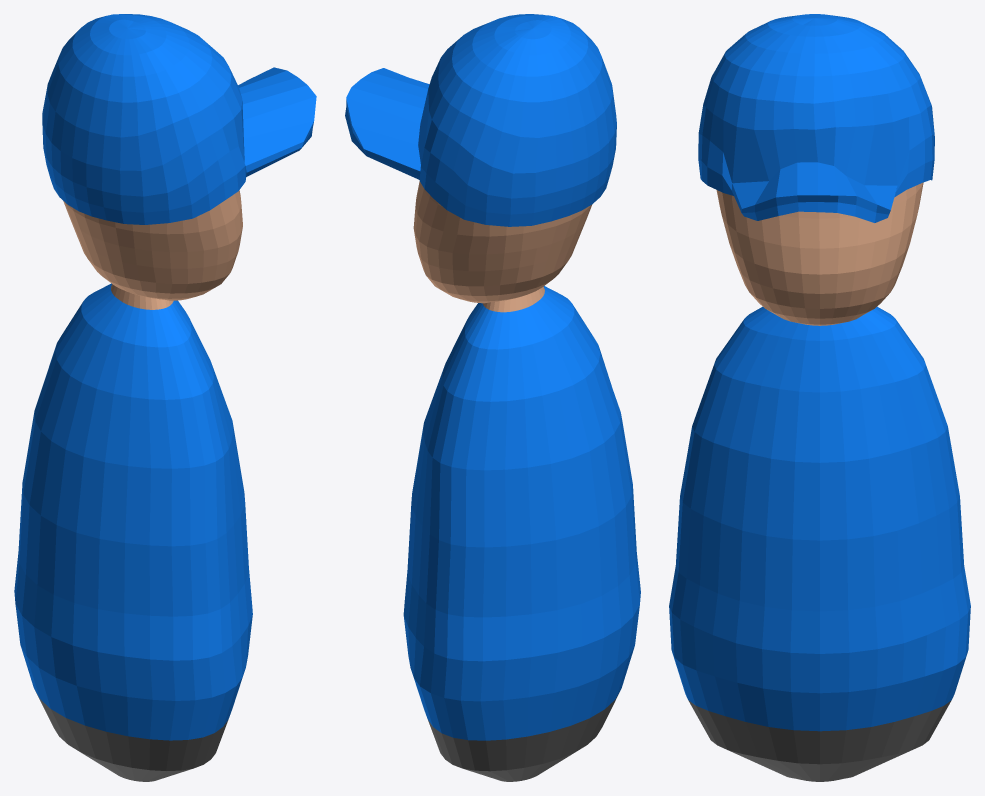
Rendered from BluePassenger.fbx.
The picture shows the model from 3 angles, left to right: view 1: azimuth 30°, elevation 25°; view 2: azimuth 150°, elevation 25°; view 3: azimuth 270°, elevation 25°; orthographic projection.
Visible parts, largest first — view 1: Cylinder, Sphere.001, Sphere; view 2: Cylinder, Sphere.001, Sphere; view 3: Cylinder, Sphere.001, Sphere.
Part boxes in pixels (x1,y1,x2,y2): Cylinder: (14,283,252,781); Sphere.001: (42,14,316,224); Sphere: (63,190,242,300); Cylinder: (403,286,640,781); Sphere.001: (345,14,616,226); Sphere: (413,181,592,303); Cylinder: (669,306,970,781); Sphere.001: (698,14,934,222); Sphere: (716,182,923,325).
Size of the model in its own units: 693 by 1884 by 683.
